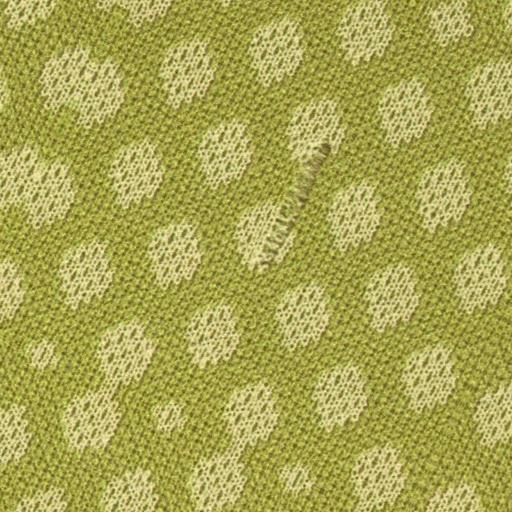slub: (249, 132, 336, 292)
